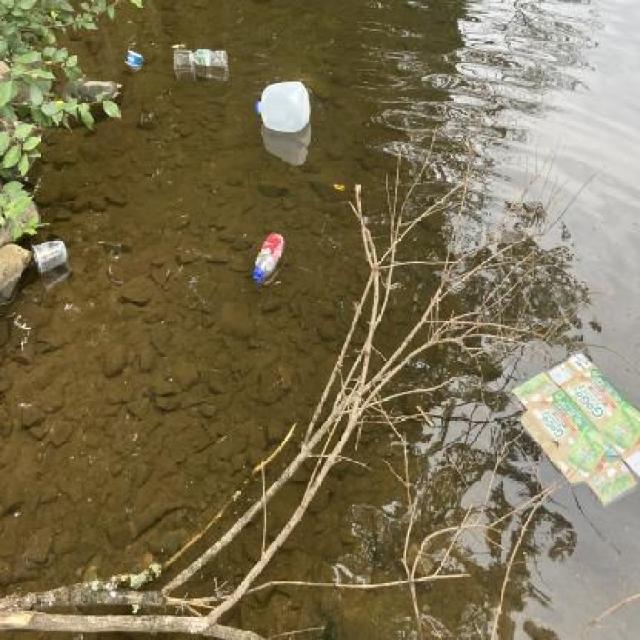Cardboard: (504, 349, 640, 512)
Paper: (122, 46, 146, 71)
Plastic: (250, 76, 316, 141), (247, 228, 290, 288), (27, 235, 73, 282), (170, 47, 228, 73)
